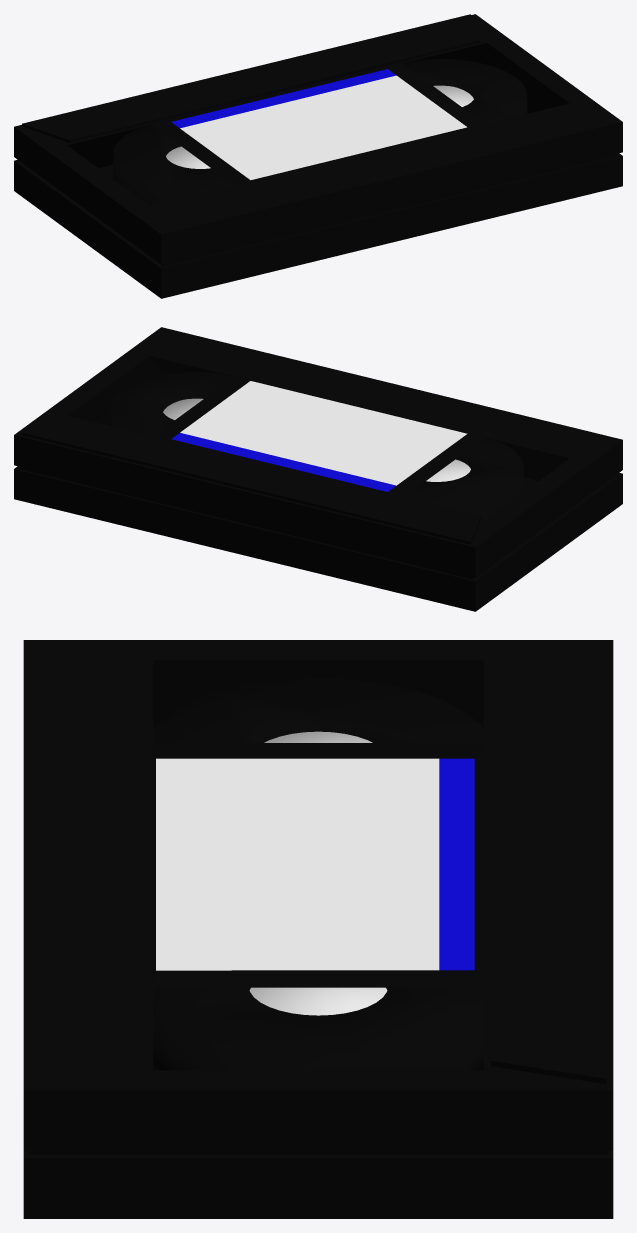
The model's file is tape.fbx.
The picture shows the model from 3 angles, top to bottom: view 1: azimuth 30°, elevation 25°; view 2: azimuth 150°, elevation 25°; view 3: azimuth 270°, elevation 25°; orthographic projection. The views are drawn at different scales.
Parts seen in each view (by area): view 1: Cube, Cylinder.002, Cylinder.003, Cylinder, Cylinder.001; view 2: Cube, Cylinder.002, Cylinder.003, Cylinder, Cylinder.001; view 3: Cube, Cylinder.003, Cylinder.002, Cylinder.001, Cylinder.
Part boxes in pixels (<box>): Cube: <box>14,14,622,298</box>; Cylinder.002: <box>113,125,233,205</box>; Cylinder.003: <box>403,59,527,123</box>; Cylinder: <box>166,146,210,168</box>; Cylinder.001: <box>433,85,473,106</box>; Cube: <box>14,327,622,611</box>; Cylinder.002: <box>404,438,523,518</box>; Cylinder.003: <box>109,372,233,435</box>; Cylinder: <box>426,459,470,481</box>; Cylinder.001: <box>163,398,203,419</box>; Cube: <box>23,640,613,1218</box>; Cylinder.003: <box>153,987,483,1070</box>; Cylinder.002: <box>153,678,483,742</box>; Cylinder.001: <box>249,987,387,1015</box>; Cylinder: <box>264,731,372,742</box>.
Size of the model in its own units: 18.8 by 2.61 by 10.4.
